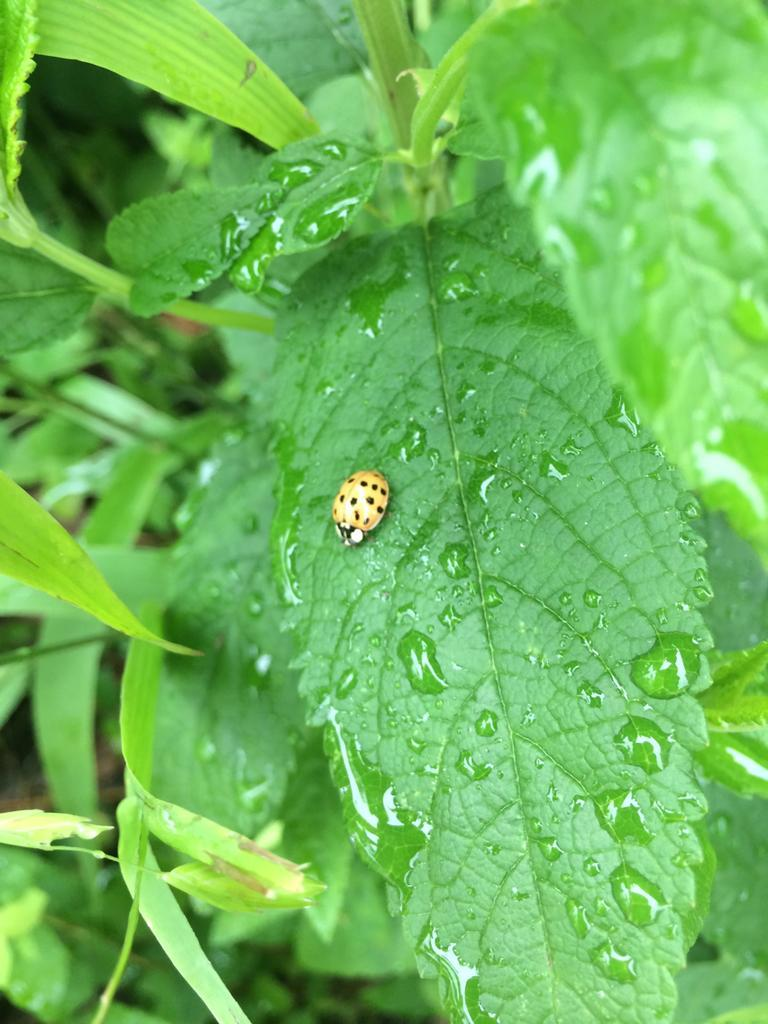ladybug: (331, 467, 394, 551)
